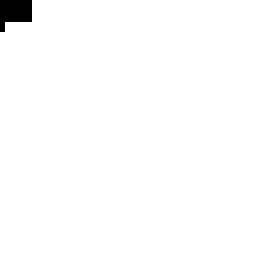rumex: (0, 32, 256, 256), (32, 0, 255, 32), (5, 22, 32, 33)
